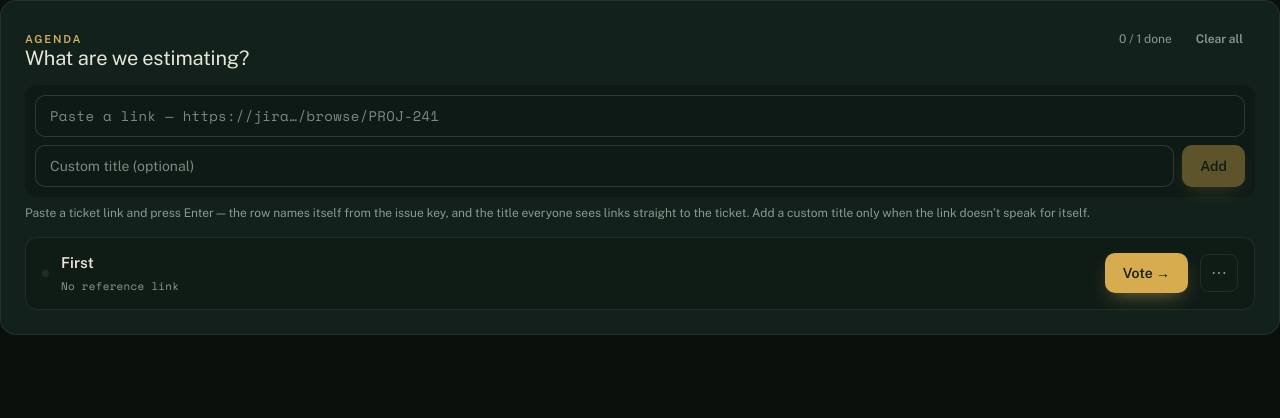
it: Agenda › clear all › leaves the agenda alone when the prompt is dismissed
Click the button "Clear all". click: (1219, 39)
box: [1184,25,1255,53]
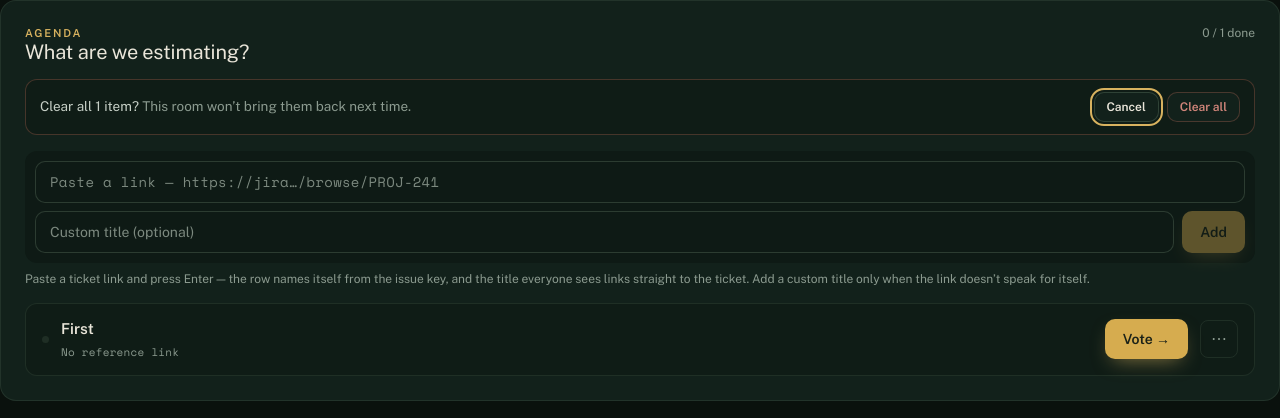
Click the button "Cancel". click: (1126, 106)
box: [1094,92,1159,122]
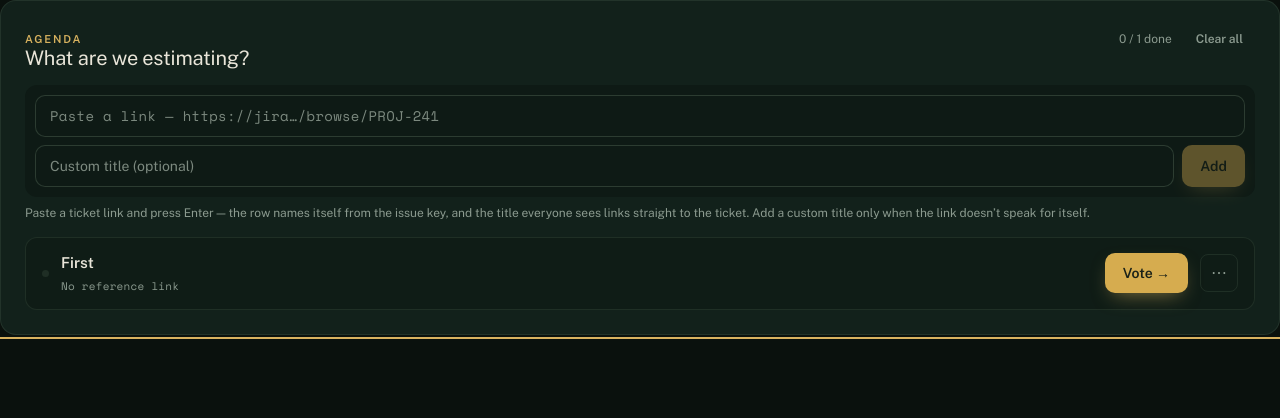
Check: the text "won.t bring them back" is gone
